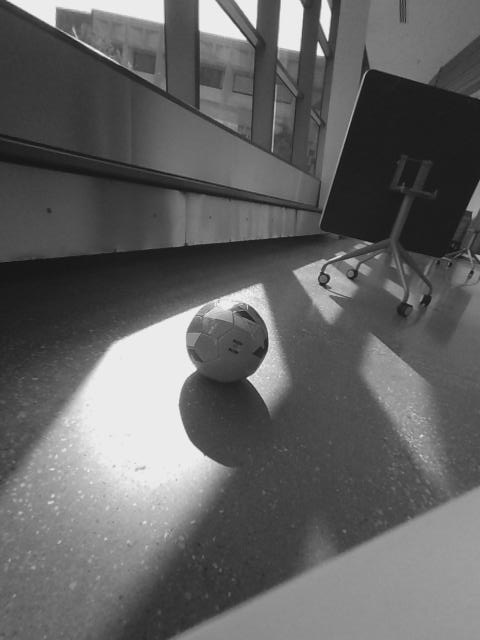ball: (183, 296, 273, 385)
